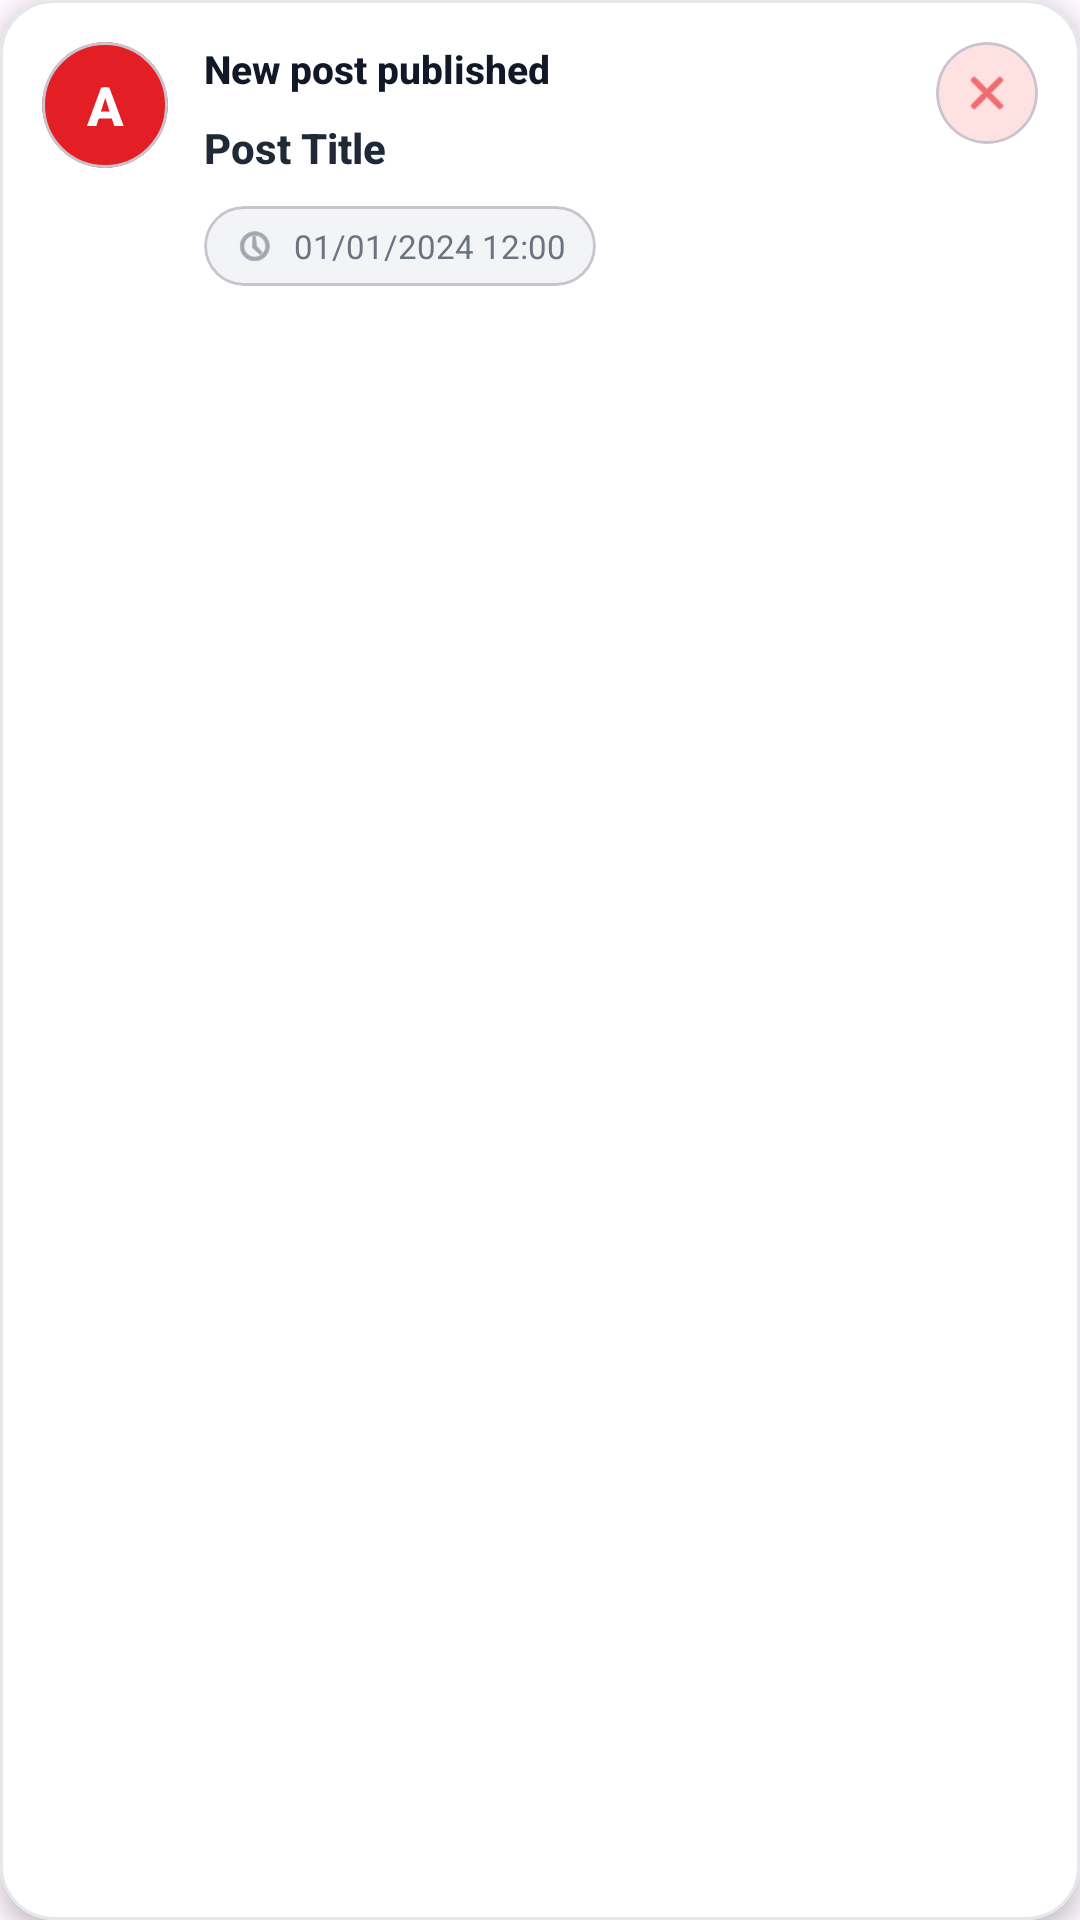

Named icons in this screenshot (1080px x 1920px) and their bounding boxes, (x1, y1, x2, y2):
Delete notification: (936, 42, 1038, 144)
Time: (240, 231, 270, 261)
